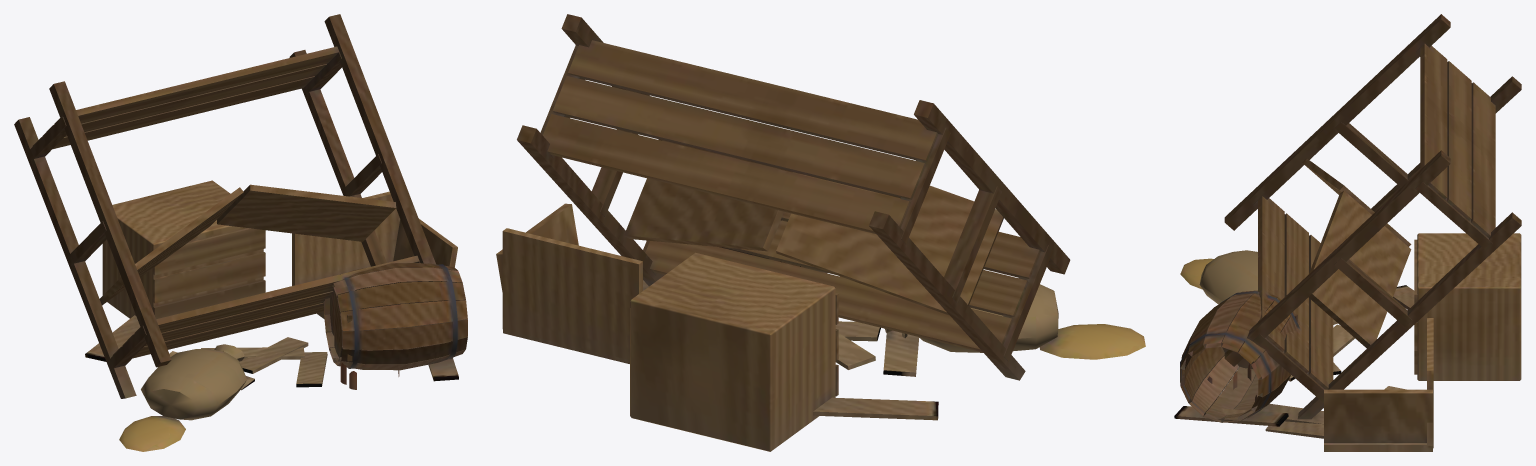
Rendered from wreck-heap.glb.
3 views of the same model, side by side, from view 1: azimuth 30°, elevation 25°; view 2: azimuth 150°, elevation 25°; view 3: azimuth 270°, elevation 25° (orthographic). The views are drawn at different scales.
Parts seen in each view (by area): view 1: wreck-heap; view 2: wreck-heap; view 3: wreck-heap.
Boxes of the visible parts, <box> form: wreck-heap: <box>14,14,467,451</box>; wreck-heap: <box>496,14,1145,451</box>; wreck-heap: <box>1174,14,1521,451</box>.
Bounding box in the file's own units: 1.77 × 1.14 × 1.34.
Materials: 1 (1 with a texture image).
